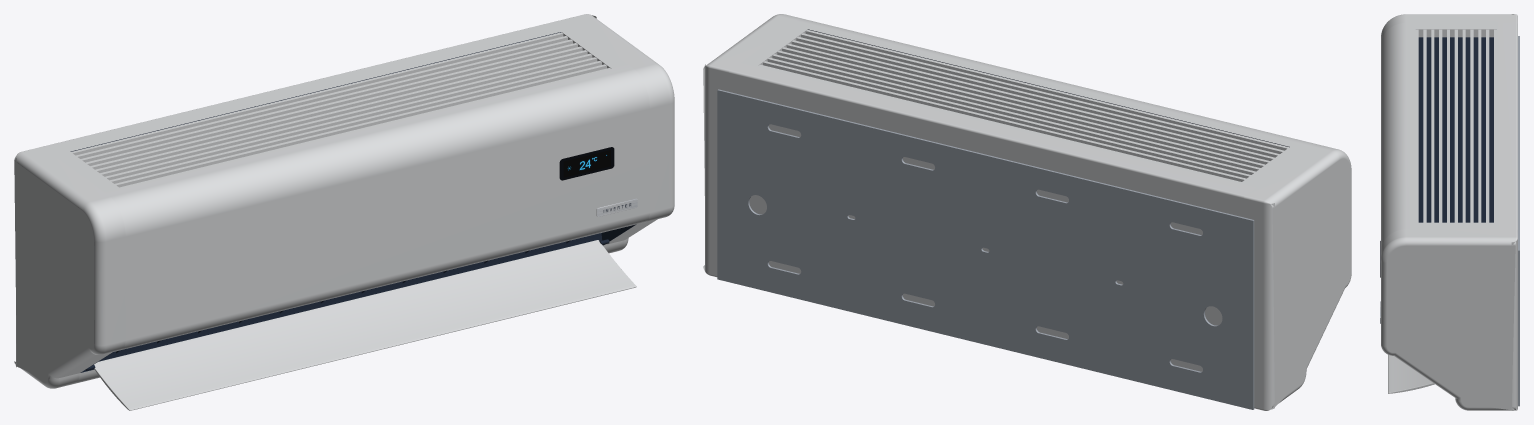
The model's file is Office_Wall_AC_Unit.glb.
The picture shows the model from 3 angles, left to right: view 1: azimuth 30°, elevation 25°; view 2: azimuth 150°, elevation 25°; view 3: azimuth 270°, elevation 25°; orthographic projection. The views are drawn at different scales.
Visible parts, largest first — view 1: Housing_Main_Shell, Louver_Flap, Housing_EndCap_L, Housing_EndCap_R, Intake_Slat_06, Intake_Slat_07, Intake_Slat_05, Intake_Slat_08, Intake_Slat_04, Intake_Slat_10, Intake_Slat_01, Intake_Slat_03 (+6 smaller); view 2: Wall_Mounting_Plate, Housing_Main_Shell, Housing_EndCap_L, Housing_EndCap_R, Intake_Slat_04, Intake_Slat_07, Intake_Slat_11, Intake_Slat_05, Intake_Slat_03, Intake_Slat_08, Intake_Slat_10, Intake_Slat_09 (+5 smaller); view 3: Housing_EndCap_R, Housing_Main_Shell, Housing_EndCap_L, Louver_Flap, Intake_Frame_L, Intake_Slat_04, Intake_Slat_10, Intake_Slat_02, Intake_Slat_03, Intake_Slat_05, Intake_Slat_06, Intake_Slat_08 (+6 smaller).
Boxes of the visible parts, box(x1,y1,x2,y2) form: Housing_Main_Shell: box(42, 19, 649, 383); Louver_Flap: box(94, 240, 636, 410); Housing_EndCap_L: box(14, 147, 125, 388); Housing_EndCap_R: box(566, 14, 674, 253); Intake_Slat_06: box(95, 50, 587, 172); Intake_Slat_07: box(100, 53, 592, 176); Intake_Slat_05: box(90, 46, 582, 169); Intake_Slat_08: box(105, 57, 597, 180); Intake_Slat_04: box(85, 43, 577, 165); Intake_Slat_10: box(115, 64, 606, 187); Intake_Slat_01: box(71, 32, 563, 155); Intake_Slat_03: box(80, 39, 572, 162); Wall_Mounting_Plate: box(717, 89, 1254, 409); Housing_Main_Shell: box(729, 19, 1317, 371); Housing_EndCap_L: box(1244, 144, 1351, 410); Housing_EndCap_R: box(703, 14, 802, 277); Intake_Slat_04: box(772, 54, 1255, 174); Intake_Slat_07: box(786, 43, 1269, 164); Intake_Slat_11: box(805, 30, 1288, 150); Intake_Slat_05: box(777, 50, 1260, 171); Intake_Slat_03: box(767, 57, 1250, 178); Intake_Slat_08: box(791, 40, 1274, 160); Intake_Slat_10: box(801, 33, 1284, 153); Intake_Slat_09: box(796, 36, 1279, 157); Housing_EndCap_R: box(1381, 229, 1517, 410); Housing_Main_Shell: box(1381, 22, 1517, 248); Housing_EndCap_L: box(1381, 14, 1517, 41); Louver_Flap: box(1388, 355, 1434, 393); Intake_Frame_L: box(1415, 23, 1496, 37); Intake_Slat_04: box(1470, 29, 1473, 222); Intake_Slat_10: box(1423, 29, 1426, 222); Intake_Slat_02: box(1486, 29, 1489, 222); Intake_Slat_03: box(1478, 29, 1481, 222); Intake_Slat_05: box(1462, 29, 1465, 222); Intake_Slat_06: box(1454, 29, 1457, 222); Intake_Slat_08: box(1439, 29, 1442, 222).
Bounding box in the file's own units: 0.85 × 0.3 × 0.22.
6 materials, 2 textured.
